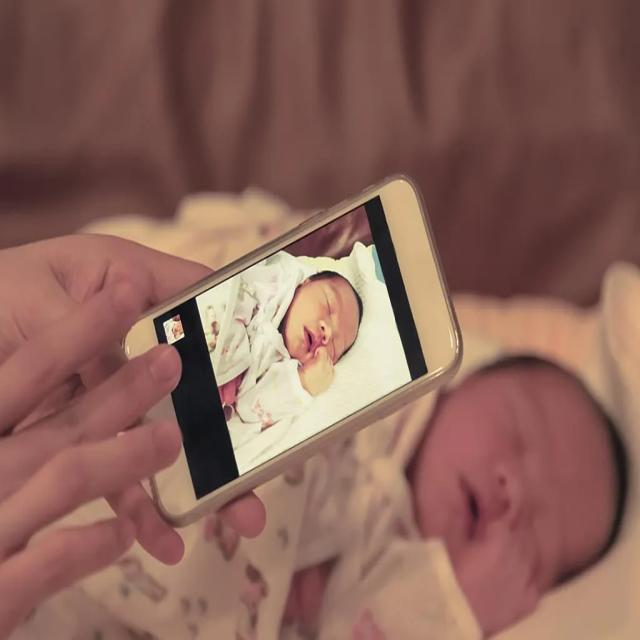non-dog: (1, 234, 268, 640), (412, 354, 627, 640), (279, 273, 362, 396)
